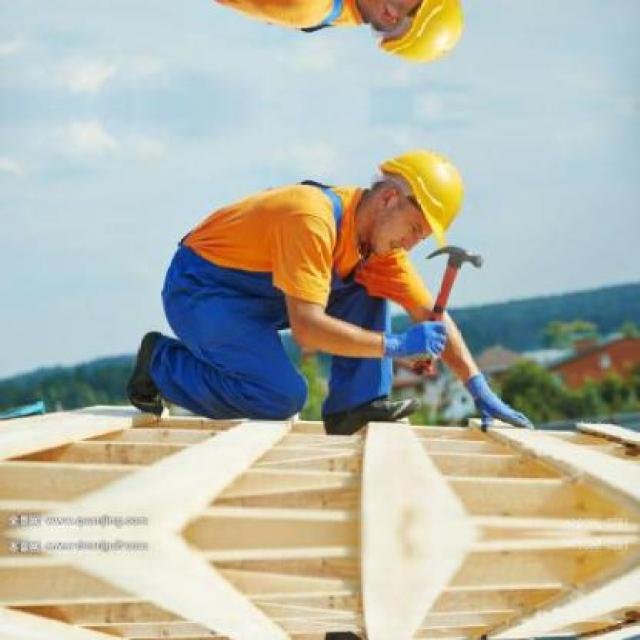helmet: (356, 144, 469, 252), (355, 0, 469, 69)
